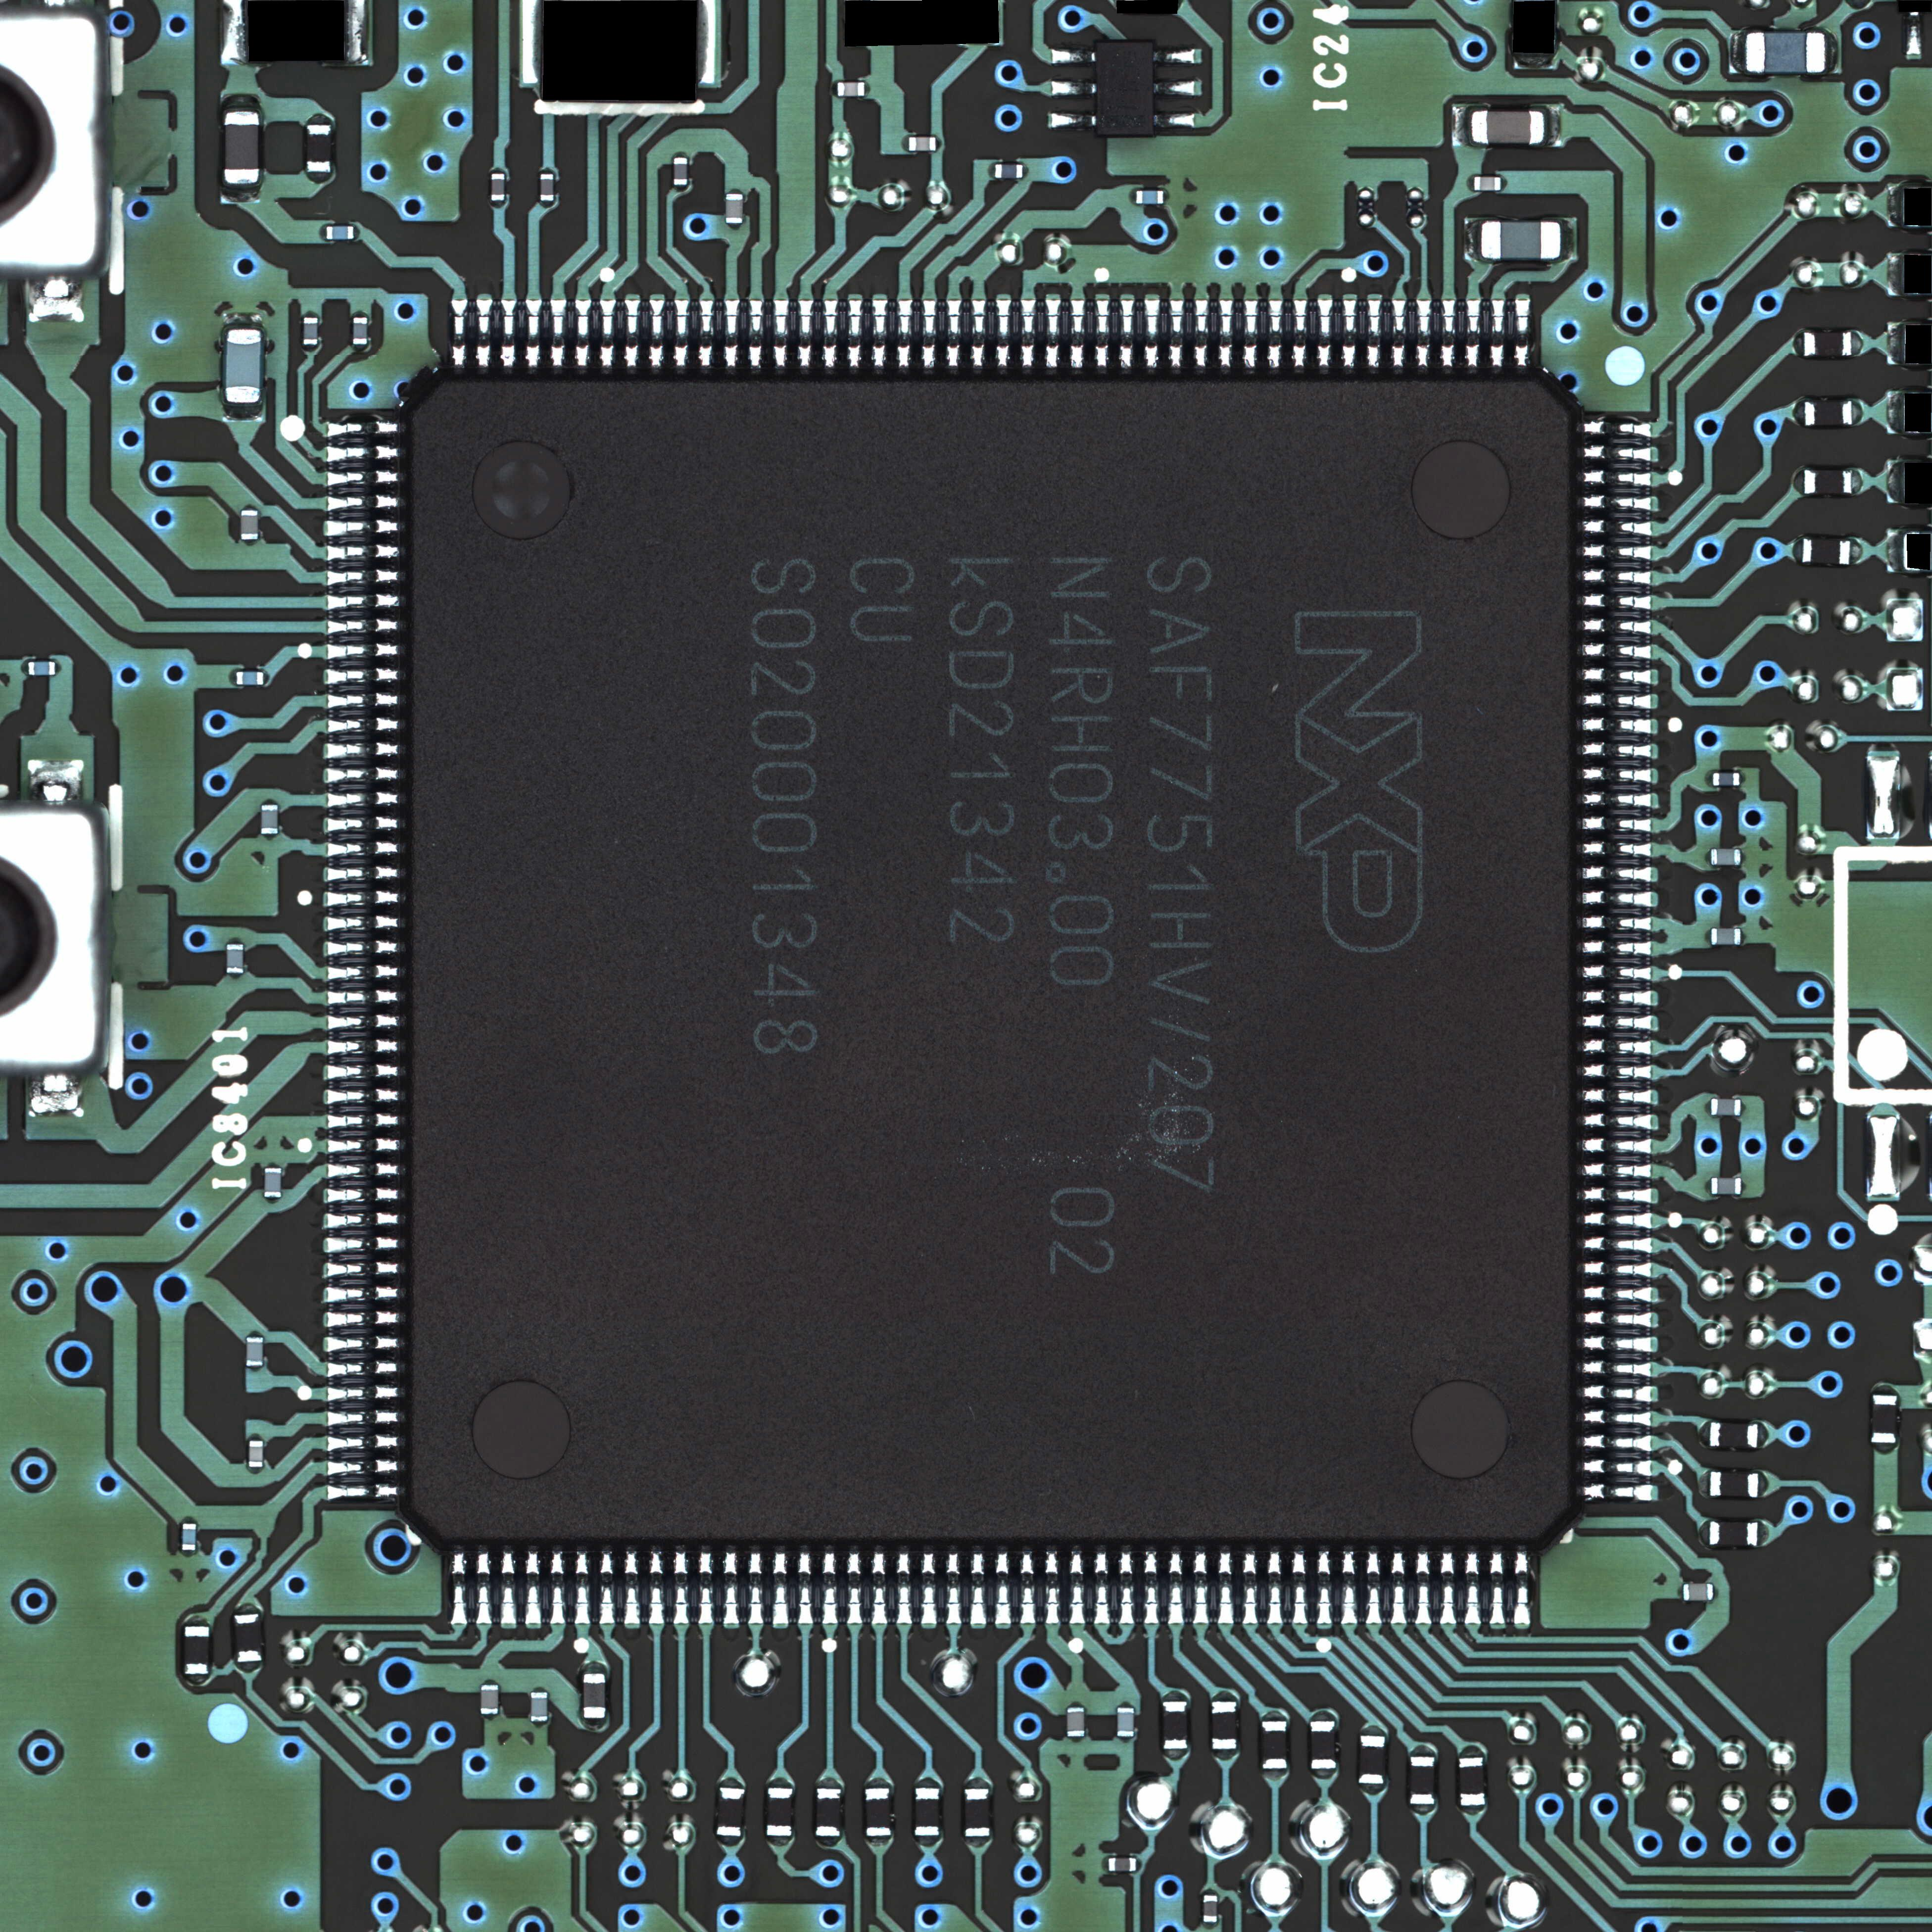Package: (407, 375, 1578, 1548), (1097, 42, 1154, 134), (1744, 32, 1826, 73), (1481, 219, 1560, 258), (225, 329, 260, 403), (223, 111, 258, 184), (1472, 110, 1545, 145), (717, 1787, 743, 1836), (234, 1615, 262, 1661), (1359, 1736, 1385, 1783), (1458, 1757, 1484, 1805), (768, 1787, 793, 1836), (915, 1787, 939, 1836), (964, 1789, 989, 1838), (1872, 1394, 1897, 1444), (1803, 538, 1849, 564), (184, 1626, 209, 1674), (816, 1789, 840, 1836), (865, 1789, 890, 1836), (1212, 1702, 1237, 1750), (1311, 1720, 1336, 1767), (1709, 1522, 1757, 1546), (1709, 1472, 1757, 1497), (1711, 1422, 1759, 1447), (1162, 1702, 1187, 1748), (1410, 1757, 1435, 1803), (1805, 471, 1851, 495), (1805, 402, 1851, 426), (308, 124, 331, 172), (1263, 1721, 1286, 1767), (1805, 333, 1851, 356), (584, 1674, 607, 1718), (264, 1168, 281, 1198), (481, 1684, 499, 1714), (1711, 927, 1741, 945), (241, 511, 258, 540), (260, 805, 278, 833), (226, 945, 244, 973), (1067, 1709, 1085, 1737), (1116, 1707, 1134, 1736), (727, 193, 743, 223), (1711, 1178, 1741, 1194), (1711, 1099, 1741, 1115), (1711, 849, 1741, 865), (531, 1693, 547, 1721), (1684, 1583, 1713, 1599), (28, 660, 55, 676), (352, 317, 366, 345), (248, 1338, 262, 1366), (1136, 189, 1164, 203), (540, 173, 554, 200), (327, 225, 354, 239), (303, 318, 317, 345), (249, 1440, 264, 1467), (182, 1523, 196, 1550), (1203, 1895, 1217, 1921), (1109, 1858, 1136, 1872), (996, 165, 1023, 179), (909, 136, 936, 150), (837, 81, 863, 96), (674, 157, 686, 186), (237, 671, 262, 685), (492, 173, 504, 200), (1713, 773, 1739, 786), (1476, 177, 1500, 189)
Solder: (326, 667, 407, 685), (326, 741, 407, 759), (326, 593, 407, 610), (327, 543, 407, 561), (327, 446, 407, 464), (327, 421, 407, 439), (327, 840, 405, 858), (327, 1361, 405, 1378), (846, 299, 863, 375), (870, 299, 888, 375), (895, 299, 913, 375), (945, 299, 962, 375), (970, 299, 987, 375), (1069, 299, 1086, 375), (1192, 299, 1210, 375), (1093, 299, 1111, 375), (1341, 299, 1359, 375), (1415, 299, 1433, 375), (1440, 299, 1458, 375), (1465, 299, 1483, 375), (1490, 299, 1507, 375), (1366, 299, 1384, 375), (1391, 299, 1408, 375), (573, 1548, 591, 1624), (598, 1548, 616, 1624), (623, 1548, 640, 1624), (648, 1548, 665, 1624), (672, 1548, 690, 1624), (747, 1548, 764, 1624), (771, 1548, 789, 1624), (821, 1548, 839, 1624), (920, 1548, 938, 1624), (722, 1548, 740, 1624), (945, 1548, 962, 1624), (1578, 518, 1652, 536), (1578, 543, 1652, 561), (1578, 593, 1652, 610), (1578, 568, 1652, 586), (1578, 617, 1652, 635), (1578, 667, 1652, 685), (1578, 692, 1652, 709), (1578, 717, 1652, 734), (1578, 766, 1652, 784), (1578, 816, 1652, 833), (1578, 989, 1652, 1007), (1578, 1014, 1652, 1031), (1578, 1088, 1652, 1106), (1578, 1237, 1652, 1254), (1578, 1286, 1652, 1304), (1578, 1336, 1652, 1353), (1578, 1311, 1652, 1329), (326, 768, 407, 784), (326, 1237, 407, 1253), (326, 1286, 407, 1302), (326, 642, 407, 658), (326, 520, 407, 536), (1580, 1187, 1652, 1205), (1580, 1212, 1652, 1230), (327, 617, 407, 633), (327, 890, 407, 906), (327, 939, 407, 955), (327, 915, 407, 931), (327, 964, 407, 980), (327, 989, 407, 1005), (327, 1039, 407, 1054), (327, 1014, 407, 1030), (327, 1113, 407, 1129), (327, 1088, 407, 1104), (327, 1162, 407, 1178), (327, 1138, 407, 1154), (327, 1187, 407, 1203), (327, 1212, 407, 1228), (327, 1261, 407, 1277), (327, 1410, 407, 1426), (327, 1460, 407, 1476), (327, 1435, 407, 1451), (327, 1484, 407, 1500), (327, 1311, 407, 1327), (327, 1063, 407, 1079), (327, 570, 407, 586), (327, 816, 405, 832), (327, 865, 405, 881), (327, 793, 405, 809), (327, 1336, 405, 1352), (327, 1385, 405, 1401), (327, 495, 405, 511), (327, 471, 405, 487), (451, 299, 467, 375), (476, 299, 492, 375), (501, 299, 517, 375), (525, 299, 541, 375), (550, 299, 566, 375), (575, 299, 591, 375), (600, 299, 616, 375), (625, 299, 640, 375), (649, 299, 665, 375), (674, 299, 690, 375), (748, 299, 764, 375), (773, 299, 789, 375), (798, 299, 814, 375), (823, 299, 839, 375), (922, 299, 938, 375), (699, 299, 715, 375), (724, 299, 740, 375), (994, 299, 1010, 375), (1019, 299, 1035, 375), (1044, 299, 1060, 375), (1143, 299, 1159, 375), (1168, 299, 1184, 375), (1217, 299, 1233, 375), (1242, 299, 1258, 375), (1267, 299, 1283, 375), (1292, 299, 1307, 375), (1316, 299, 1332, 375), (1118, 299, 1134, 375), (1514, 299, 1530, 375), (451, 1548, 467, 1624), (501, 1548, 517, 1624), (525, 1548, 541, 1624), (550, 1548, 566, 1624), (798, 1548, 814, 1624), (846, 1548, 862, 1624), (870, 1548, 886, 1624), (895, 1548, 911, 1624), (699, 1548, 715, 1624), (970, 1548, 985, 1624), (994, 1548, 1010, 1624), (1019, 1548, 1035, 1624), (1044, 1548, 1060, 1624), (1069, 1548, 1085, 1624), (1143, 1548, 1159, 1624), (1168, 1548, 1184, 1624), (1192, 1548, 1208, 1624), (1217, 1548, 1233, 1624), (1242, 1548, 1258, 1624), (1267, 1548, 1283, 1624), (1292, 1548, 1307, 1624), (1316, 1548, 1332, 1624), (1093, 1548, 1109, 1624), (1118, 1548, 1134, 1624), (1341, 1548, 1357, 1624), (1514, 1548, 1530, 1624), (476, 1548, 492, 1624), (1578, 421, 1652, 437), (1578, 446, 1652, 462), (1578, 495, 1652, 511), (1578, 471, 1652, 487), (1578, 642, 1652, 658), (1578, 741, 1652, 757), (1578, 840, 1652, 856), (1578, 890, 1652, 906), (1578, 865, 1652, 881), (1578, 939, 1652, 955), (1578, 915, 1652, 931), (1578, 964, 1652, 980), (1578, 1039, 1652, 1054), (1578, 793, 1652, 809), (1578, 1113, 1652, 1129), (1578, 1162, 1652, 1178), (1578, 1138, 1652, 1154), (1578, 1261, 1652, 1277), (1578, 1361, 1652, 1376), (1578, 1410, 1652, 1426), (1578, 1385, 1652, 1401), (1578, 1435, 1652, 1451), (1578, 1484, 1652, 1500), (1578, 1063, 1652, 1079), (1415, 1550, 1431, 1624), (1440, 1550, 1456, 1624), (1465, 1550, 1481, 1624), (1490, 1550, 1506, 1624), (1366, 1550, 1382, 1624), (1391, 1550, 1407, 1624), (1580, 1460, 1652, 1476), (327, 694, 407, 708), (327, 718, 407, 732), (219, 184, 262, 203), (1886, 462, 1905, 504), (1453, 106, 1472, 147), (1905, 12, 1921, 58), (1463, 219, 1481, 260), (1051, 80, 1095, 96), (1888, 253, 1904, 297), (1888, 322, 1904, 366), (1886, 527, 1902, 571), (223, 403, 262, 421), (1545, 108, 1562, 147), (1888, 393, 1904, 435), (223, 94, 260, 111), (1513, 53, 1559, 67), (1154, 113, 1194, 129), (1154, 80, 1194, 96), (1560, 219, 1576, 260), (1888, 188, 1904, 228), (1051, 50, 1095, 64), (1051, 113, 1095, 127), (225, 313, 264, 329), (1154, 50, 1196, 64), (1826, 30, 1840, 73), (1730, 32, 1744, 73), (234, 1601, 262, 1614), (234, 1661, 262, 1674), (863, 1776, 892, 1789), (1851, 538, 1863, 564), (1458, 1744, 1484, 1757), (1261, 1769, 1288, 1782), (1359, 1783, 1385, 1796), (964, 1776, 991, 1789), (964, 1836, 991, 1849), (816, 1836, 842, 1849), (582, 1660, 605, 1674), (306, 172, 331, 184), (184, 1614, 209, 1626), (184, 1674, 209, 1686), (1792, 471, 1805, 495), (1698, 1422, 1711, 1447), (1697, 1472, 1709, 1497), (1872, 1444, 1897, 1456), (1408, 1744, 1437, 1755), (1210, 1691, 1238, 1702), (1161, 1750, 1189, 1760), (1210, 1750, 1238, 1760), (1408, 1805, 1437, 1815), (1792, 333, 1805, 356), (1792, 402, 1805, 425), (1852, 400, 1863, 426), (1359, 1725, 1385, 1736), (1309, 1709, 1336, 1720), (1162, 1690, 1189, 1700), (1309, 1769, 1336, 1780), (717, 1776, 743, 1787), (816, 1776, 842, 1787), (915, 1776, 941, 1787), (915, 1836, 941, 1847), (865, 1836, 892, 1847), (766, 1836, 793, 1847), (717, 1836, 743, 1847), (1852, 331, 1863, 356), (1852, 471, 1863, 495), (1759, 1422, 1769, 1447), (1759, 1472, 1769, 1497), (1759, 1522, 1769, 1546), (1698, 1522, 1709, 1546), (582, 1720, 607, 1730), (1458, 1806, 1486, 1815), (308, 113, 331, 124), (1792, 540, 1803, 563), (1870, 1385, 1897, 1394), (1261, 1711, 1288, 1720), (766, 1776, 793, 1785), (318, 225, 327, 241), (228, 669, 237, 685), (901, 136, 909, 152), (1465, 175, 1474, 191), (1675, 1583, 1684, 1599), (241, 540, 258, 547), (21, 658, 28, 676), (264, 1198, 281, 1205), (725, 223, 743, 230), (830, 80, 837, 97), (1129, 188, 1136, 205), (1704, 927, 1711, 945), (531, 1721, 548, 1729), (1704, 771, 1713, 786), (354, 225, 361, 241), (55, 660, 62, 676), (226, 938, 242, 945), (228, 973, 244, 980), (248, 1366, 264, 1373), (248, 1433, 264, 1440), (248, 1467, 264, 1474), (936, 136, 943, 152), (987, 163, 994, 179), (1023, 163, 1030, 179), (1704, 849, 1711, 865), (1704, 1178, 1711, 1194), (1100, 1856, 1108, 1872), (1118, 1700, 1134, 1707), (1067, 1700, 1083, 1707), (483, 1714, 499, 1721), (1203, 1923, 1219, 1930), (352, 310, 366, 317), (354, 345, 368, 352), (303, 345, 317, 352), (264, 671, 271, 685), (490, 202, 504, 209), (540, 166, 554, 173), (540, 202, 554, 209), (672, 150, 686, 157), (674, 186, 688, 193), (1500, 177, 1507, 191), (1203, 1888, 1217, 1895), (241, 504, 258, 510), (260, 798, 278, 803), (260, 835, 278, 840), (264, 1162, 281, 1168), (725, 188, 743, 193), (1713, 1583, 1718, 1601), (492, 166, 504, 173), (246, 1330, 262, 1336), (180, 1516, 196, 1522), (180, 1552, 196, 1557), (865, 81, 870, 97), (1164, 189, 1169, 205), (1741, 849, 1746, 865), (1741, 929, 1746, 945), (1741, 1099, 1746, 1115), (1706, 1099, 1711, 1115), (1741, 1178, 1746, 1194), (1118, 1737, 1134, 1743), (1069, 1737, 1085, 1743), (481, 1679, 497, 1684), (303, 311, 317, 317), (533, 1686, 547, 1691), (1739, 773, 1744, 786), (1138, 1858, 1141, 1872)
